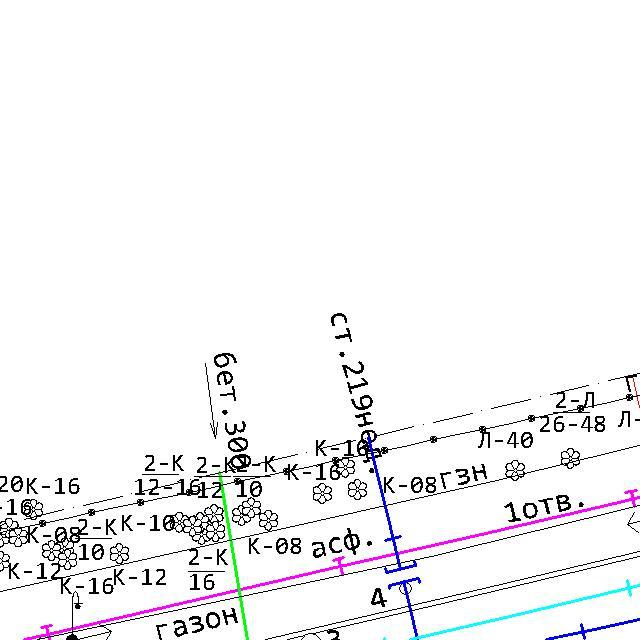asphalt: (311, 526, 373, 560)
bushes: (559, 446, 582, 471), (108, 541, 130, 566), (504, 458, 526, 483), (311, 482, 334, 505), (346, 478, 369, 501), (258, 508, 279, 533), (24, 498, 45, 521), (205, 520, 226, 543), (241, 496, 262, 519), (335, 456, 356, 479), (203, 502, 224, 524), (42, 539, 62, 562), (8, 526, 28, 548), (183, 515, 202, 538), (169, 510, 187, 534), (232, 505, 251, 527)
well: (398, 580, 413, 596)
